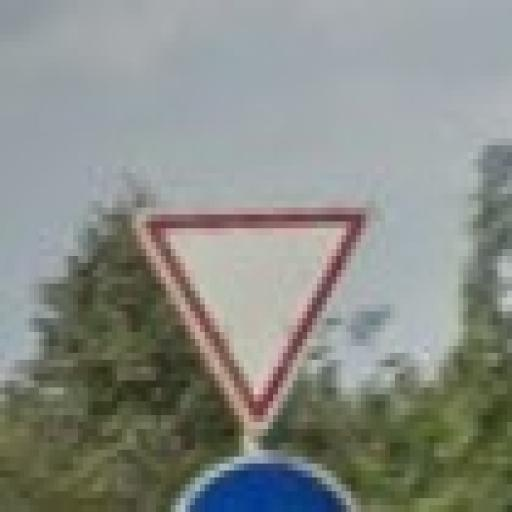traffic_sign: (133, 202, 377, 437)
